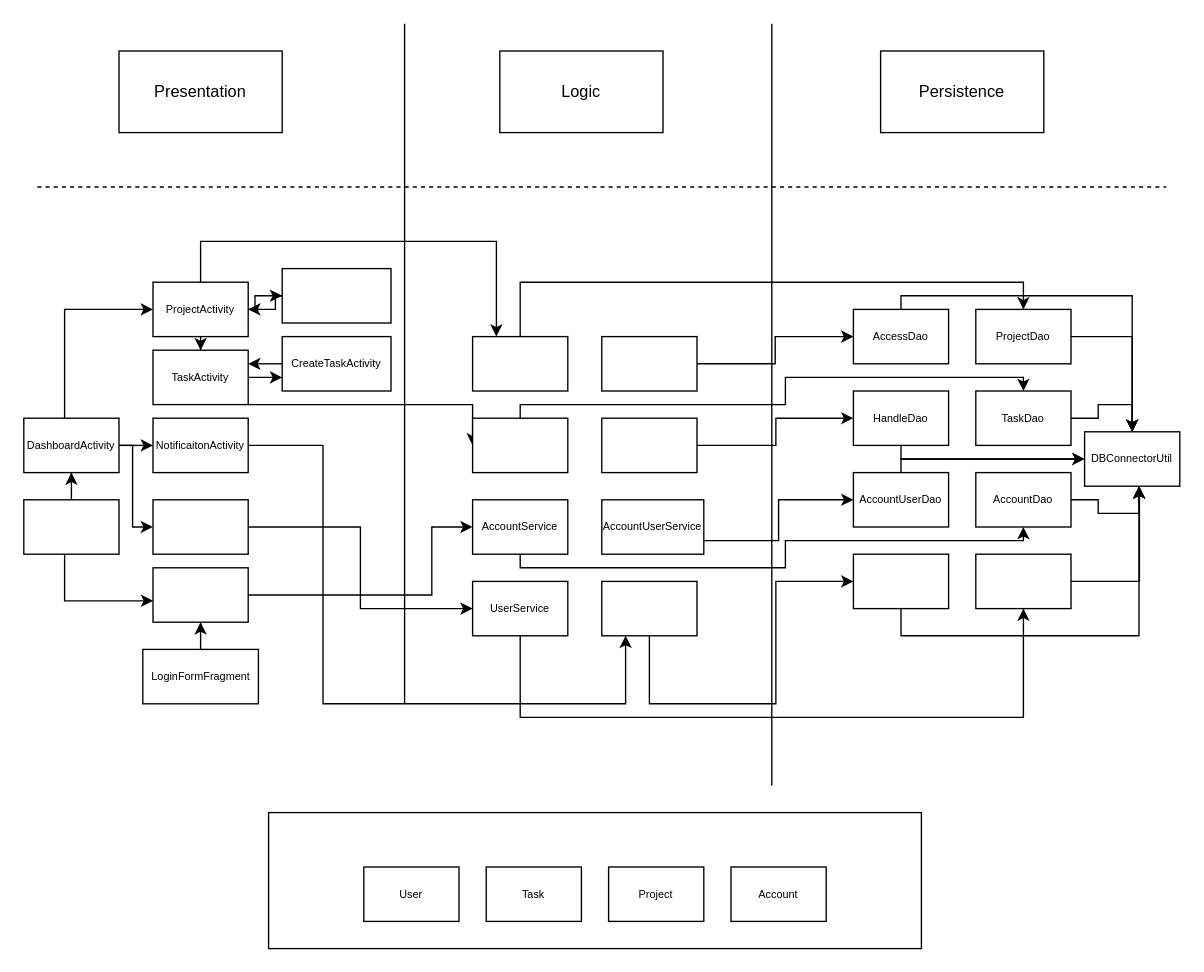
The diagram is 1204 pixels wide and 972 high, and some of its shapes have lost their labels. Each missing label, with the box of its shape:
AccessService: (600, 335, 697, 391)
CreateProjectActivity: (281, 267, 391, 323)
HandleService: (600, 417, 697, 473)
Main activity: (22, 498, 119, 554)
NotifDao: (852, 553, 949, 609)
NotifService: (600, 580, 697, 636)
Objects: (267, 811, 921, 949)
ProjectService: (471, 335, 568, 391)
RegisterActivity: (152, 566, 248, 622)
TaskService: (471, 417, 568, 473)
UserActivity: (152, 498, 248, 554)
UserDao: (974, 553, 1071, 609)
